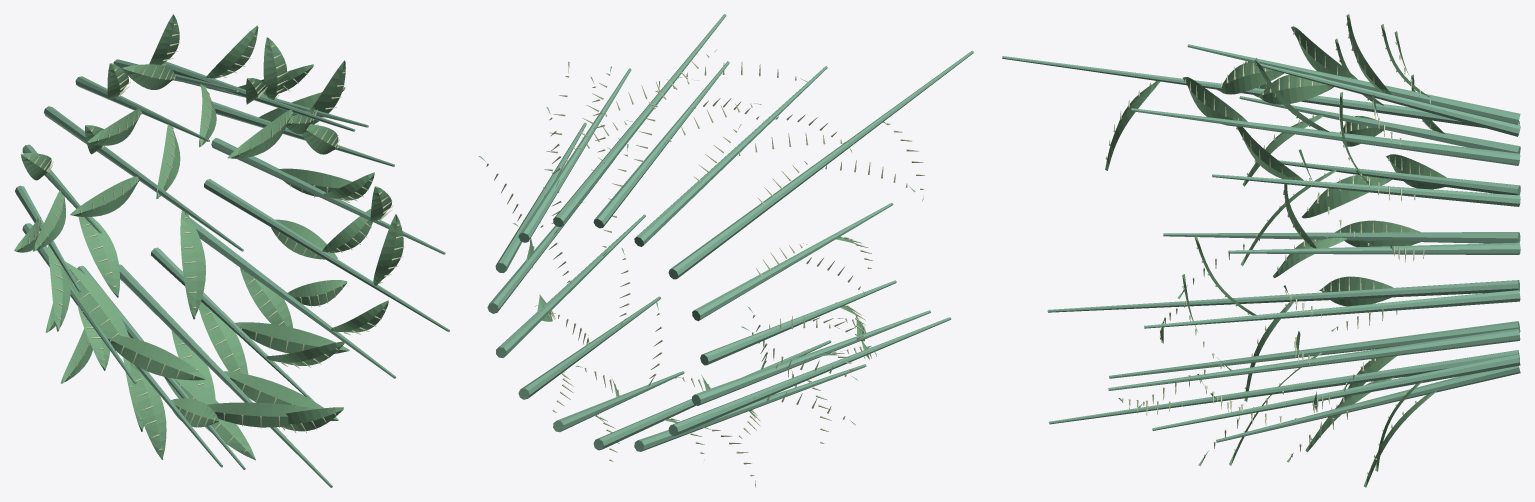
File: Aquarion_Kelp_Forest_Animated.glb
3 renders of one model, left to right at view 1: azimuth 30°, elevation 25°; view 2: azimuth 150°, elevation 25°; view 3: azimuth 270°, elevation 25°, orthographic. The views are drawn at different scales.
Parts seen in each view (by area): view 1: Aquarion_Kelp_Forest_Animated_stem15, Aquarion_Kelp_Forest_Animated_stem12, Aquarion_Kelp_Forest_Animated_blade9_2, Aquarion_Kelp_Forest_Animated_blade8_2, Aquarion_Kelp_Forest_Animated_blade6_2, Aquarion_Kelp_Forest_Animated_stem14, Aquarion_Kelp_Forest_Animated_blade13_1, Aquarion_Kelp_Forest_Animated_blade11_2, Aquarion_Kelp_Forest_Animated_blade10_1, Aquarion_Kelp_Forest_Animated_stem0, Aquarion_Kelp_Forest_Animated_stem6, Aquarion_Kelp_Forest_Animated_blade12_1 (+44 smaller); view 2: Aquarion_Kelp_Forest_Animated_stem6, Aquarion_Kelp_Forest_Animated_stem10, Aquarion_Kelp_Forest_Animated_stem3, Aquarion_Kelp_Forest_Animated_stem9, Aquarion_Kelp_Forest_Animated_stem5, Aquarion_Kelp_Forest_Animated_stem7, Aquarion_Kelp_Forest_Animated_stem4, Aquarion_Kelp_Forest_Animated_stem8, Aquarion_Kelp_Forest_Animated_stem2, Aquarion_Kelp_Forest_Animated_stem15, Aquarion_Kelp_Forest_Animated_stem11, Aquarion_Kelp_Forest_Animated_stem12 (+4 smaller); view 3: Aquarion_Kelp_Forest_Animated_stem10, Aquarion_Kelp_Forest_Animated_stem15, Aquarion_Kelp_Forest_Animated_stem12, Aquarion_Kelp_Forest_Animated_stem3, Aquarion_Kelp_Forest_Animated_stem11, Aquarion_Kelp_Forest_Animated_stem0, Aquarion_Kelp_Forest_Animated_stem14, Aquarion_Kelp_Forest_Animated_stem9, Aquarion_Kelp_Forest_Animated_stem6, Aquarion_Kelp_Forest_Animated_stem5, Aquarion_Kelp_Forest_Animated_stem2, Aquarion_Kelp_Forest_Animated_stem13 (+16 smaller).
Part boxes in pixels (left/top/right/bottom): Aquarion_Kelp_Forest_Animated_stem15: left=204, top=179, right=449, bottom=331; Aquarion_Kelp_Forest_Animated_stem12: left=119, top=264, right=332, bottom=487; Aquarion_Kelp_Forest_Animated_blade9_2: left=105, top=334, right=206, bottom=380; Aquarion_Kelp_Forest_Animated_blade8_2: left=64, top=261, right=129, bottom=341; Aquarion_Kelp_Forest_Animated_blade6_2: left=180, top=210, right=205, bottom=319; Aquarion_Kelp_Forest_Animated_stem14: left=190, top=218, right=396, bottom=378; Aquarion_Kelp_Forest_Animated_blade13_1: left=235, top=322, right=349, bottom=353; Aquarion_Kelp_Forest_Animated_blade11_2: left=207, top=402, right=316, bottom=427; Aquarion_Kelp_Forest_Animated_blade10_1: left=130, top=362, right=166, bottom=459; Aquarion_Kelp_Forest_Animated_stem0: left=211, top=138, right=445, bottom=254; Aquarion_Kelp_Forest_Animated_stem6: left=44, top=106, right=243, bottom=251; Aquarion_Kelp_Forest_Animated_blade12_1: left=223, top=371, right=338, bottom=420; Aquarion_Kelp_Forest_Animated_stem6: left=668, top=51, right=973, bottom=279; Aquarion_Kelp_Forest_Animated_stem10: left=668, top=317, right=951, bottom=436; Aquarion_Kelp_Forest_Animated_stem3: left=553, top=14, right=726, bottom=227; Aquarion_Kelp_Forest_Animated_stem9: left=692, top=310, right=930, bottom=405; Aquarion_Kelp_Forest_Animated_stem5: left=634, top=66, right=827, bottom=246; Aquarion_Kelp_Forest_Animated_stem7: left=692, top=202, right=893, bottom=321; Aquarion_Kelp_Forest_Animated_stem4: left=593, top=61, right=729, bottom=228; Aquarion_Kelp_Forest_Animated_stem8: left=700, top=280, right=896, bottom=365; Aquarion_Kelp_Forest_Animated_stem2: left=518, top=68, right=631, bottom=242; Aquarion_Kelp_Forest_Animated_stem15: left=496, top=214, right=645, bottom=357; Aquarion_Kelp_Forest_Animated_stem11: left=634, top=364, right=866, bottom=451; Aquarion_Kelp_Forest_Animated_stem12: left=593, top=340, right=831, bottom=450; Aquarion_Kelp_Forest_Animated_stem10: left=1047, top=280, right=1519, bottom=312; Aquarion_Kelp_Forest_Animated_stem15: left=1108, top=328, right=1520, bottom=390; Aquarion_Kelp_Forest_Animated_stem12: left=1049, top=350, right=1519, bottom=424; Aquarion_Kelp_Forest_Animated_stem3: left=1131, top=108, right=1520, bottom=165; Aquarion_Kelp_Forest_Animated_stem11: left=1109, top=321, right=1520, bottom=378; Aquarion_Kelp_Forest_Animated_stem0: left=1144, top=290, right=1520, bottom=328; Aquarion_Kelp_Forest_Animated_stem14: left=1152, top=354, right=1520, bottom=430; Aquarion_Kelp_Forest_Animated_stem9: left=1163, top=232, right=1520, bottom=243; Aquarion_Kelp_Forest_Animated_stem6: left=1002, top=56, right=1519, bottom=128; Aquarion_Kelp_Forest_Animated_stem5: left=1187, top=44, right=1520, bottom=124; Aquarion_Kelp_Forest_Animated_stem2: left=1212, top=174, right=1520, bottom=206; Aquarion_Kelp_Forest_Animated_stem13: left=1216, top=366, right=1520, bottom=442.
Bounding box in the file's own units: 1.74 × 1.92 × 2.09.
